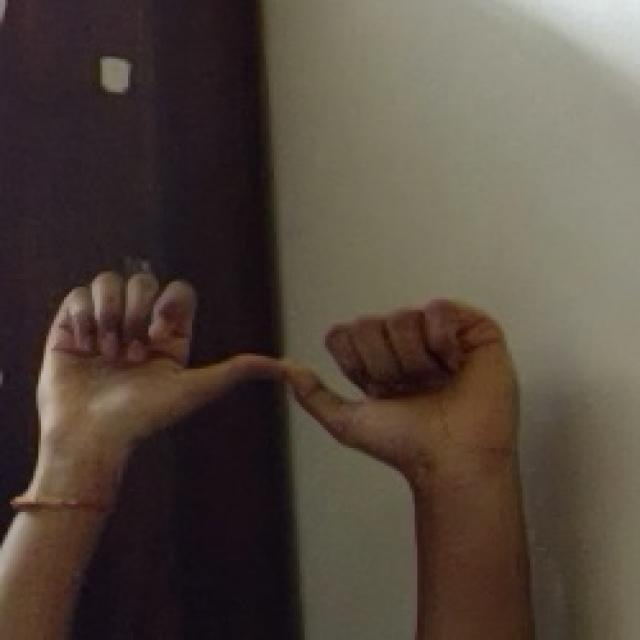Alphabet-A: (35, 268, 550, 478)
